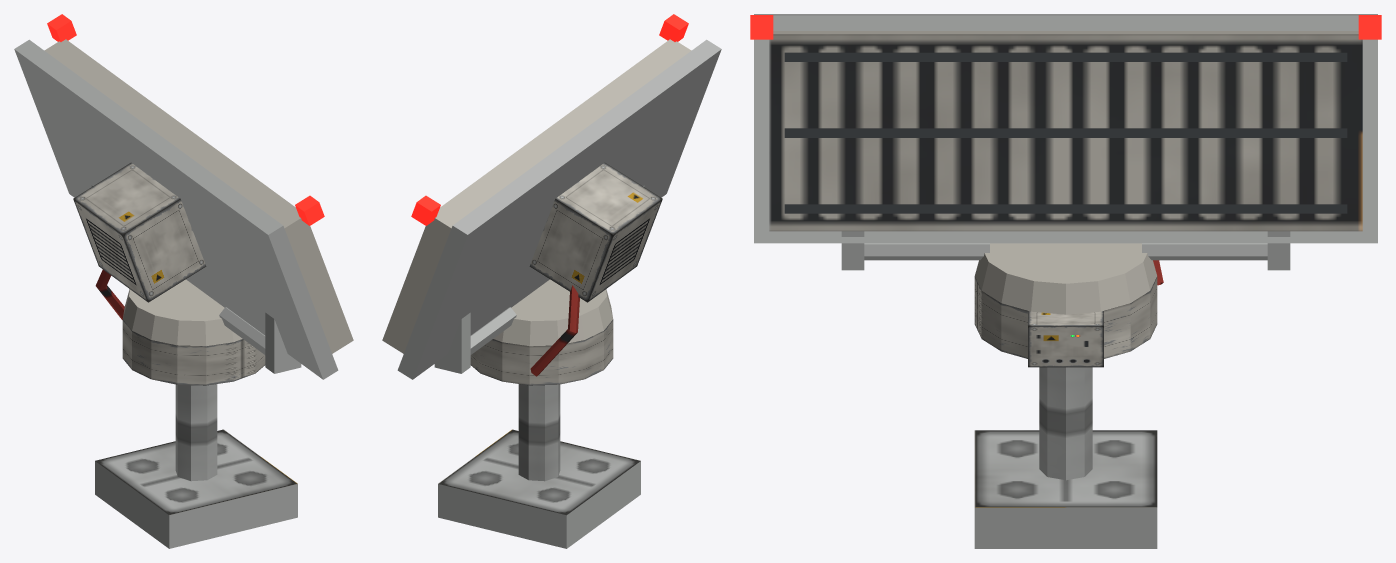
Rendered from part_radar.fbx.
3 renders of one model, left to right at view 1: azimuth 30°, elevation 25°; view 2: azimuth 150°, elevation 25°; view 3: azimuth 270°, elevation 25°, orthographic. The views are drawn at different scales.
Visible parts, largest first — view 1: part_radar; view 2: part_radar; view 3: part_radar.
Boxes of the visible parts, x1,y1,x2,y2 form: part_radar: [14, 14, 353, 548]; part_radar: [382, 14, 721, 548]; part_radar: [750, 14, 1381, 548].
Bounding box in the file's own units: 0.3387 × 0.711 × 0.83.
Materials: 1 (1 with a texture image).
